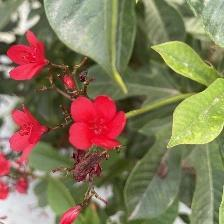jatropha: (69, 96, 128, 153), (10, 31, 52, 85), (12, 106, 48, 155)
